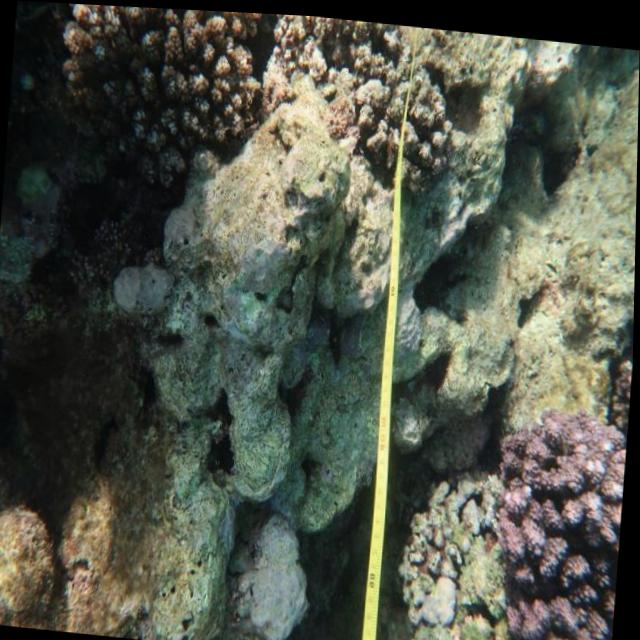Healthy Coral: (486, 341, 634, 640), (38, 2, 272, 175)
